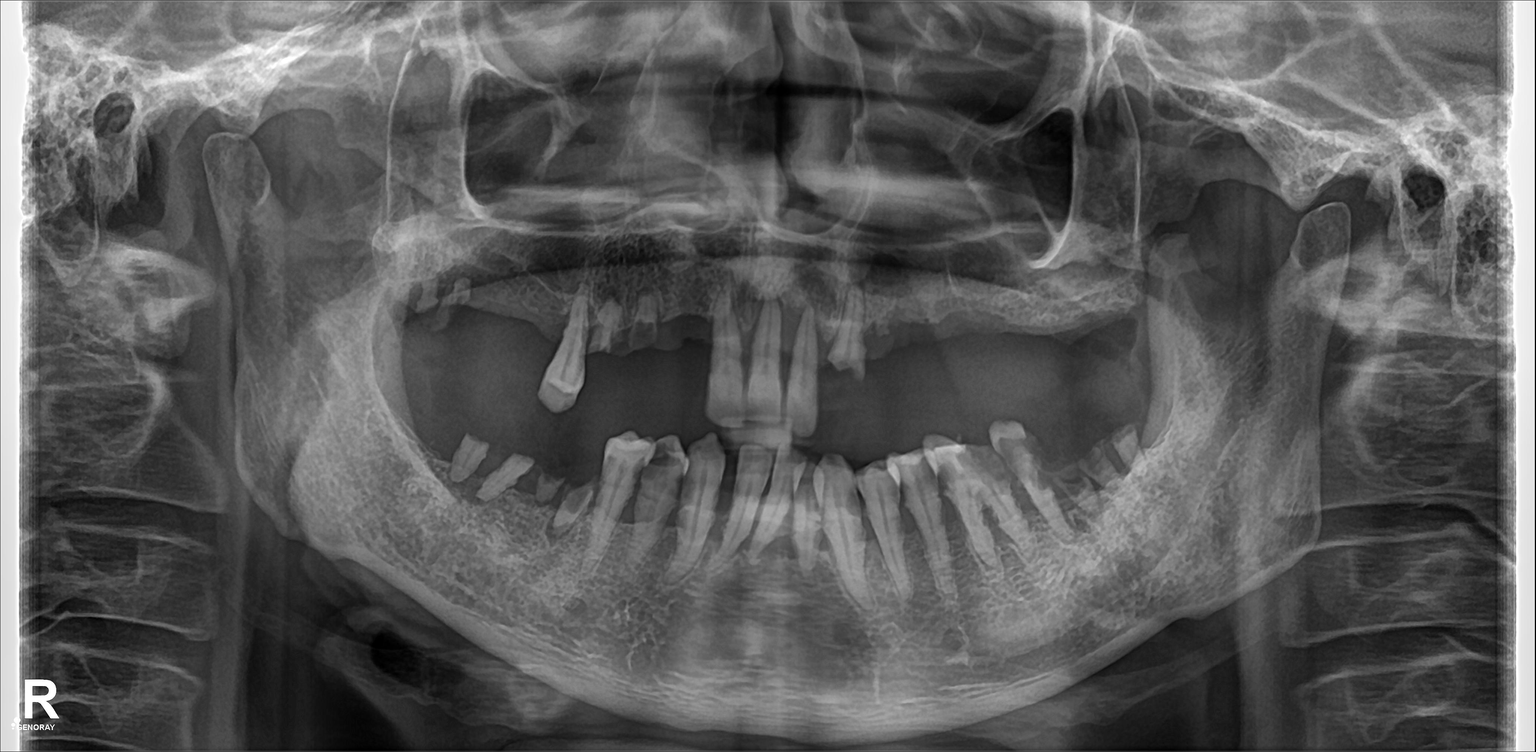Dental Caries: (641, 441, 687, 477)
Missing Tooth: (899, 287, 942, 389), (963, 296, 1010, 369), (1032, 307, 1062, 383), (1110, 289, 1135, 380), (401, 274, 423, 367), (531, 292, 557, 369), (1071, 292, 1091, 387), (693, 300, 712, 386), (495, 279, 514, 362)
Retained Root: (821, 292, 873, 405), (436, 432, 490, 517), (633, 303, 676, 395), (1058, 452, 1092, 542), (445, 270, 480, 355), (559, 477, 596, 550), (484, 447, 524, 511), (591, 303, 621, 378), (1123, 424, 1150, 499), (1093, 441, 1126, 502), (533, 458, 554, 509)
